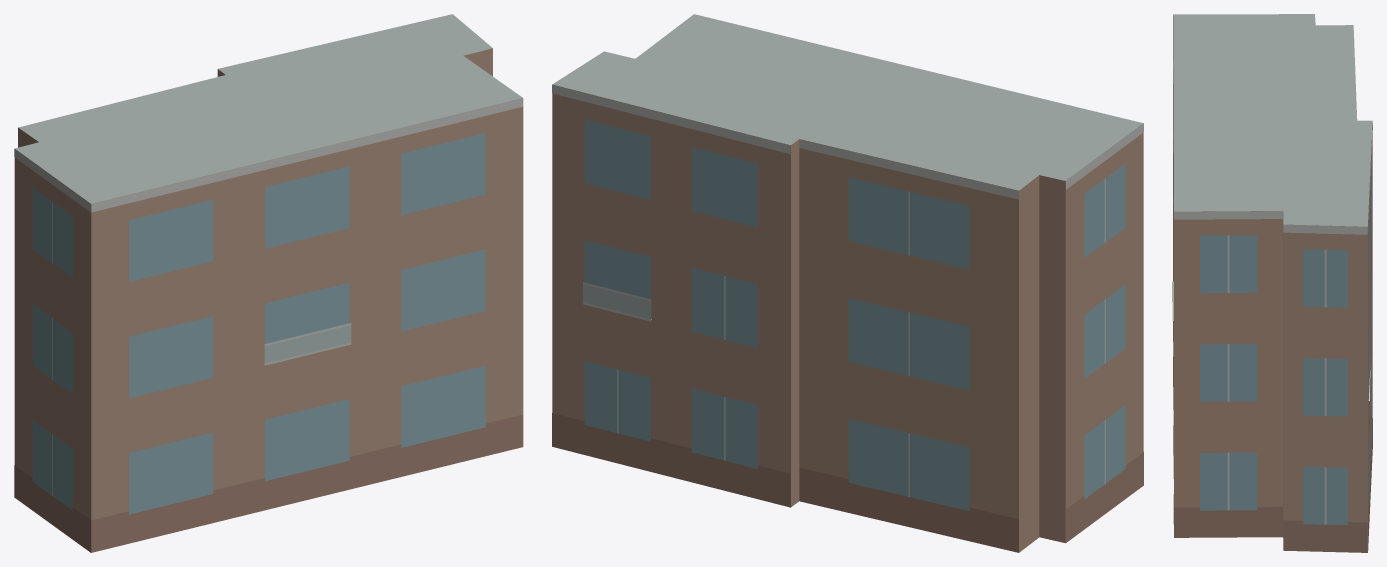
Rendered from survey-upis-32508577.glb.
3 views of the same model, side by side, from view 1: azimuth 30°, elevation 25°; view 2: azimuth 150°, elevation 25°; view 3: azimuth 270°, elevation 25° (orthographic). The views are drawn at different scales.
Parts seen in each view (by area): view 1: survey-upis-32508577.tmp; view 2: survey-upis-32508577.tmp; view 3: survey-upis-32508577.tmp.
Boxes of the visible parts, x1,y1,x2,y2 form: survey-upis-32508577.tmp: [14, 14, 523, 552]; survey-upis-32508577.tmp: [552, 14, 1143, 552]; survey-upis-32508577.tmp: [1172, 14, 1372, 552].
Size of the model in its own units: 13.72 by 9.8 by 5.47.
